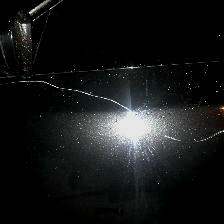door_scratch: (15, 72, 223, 154)
